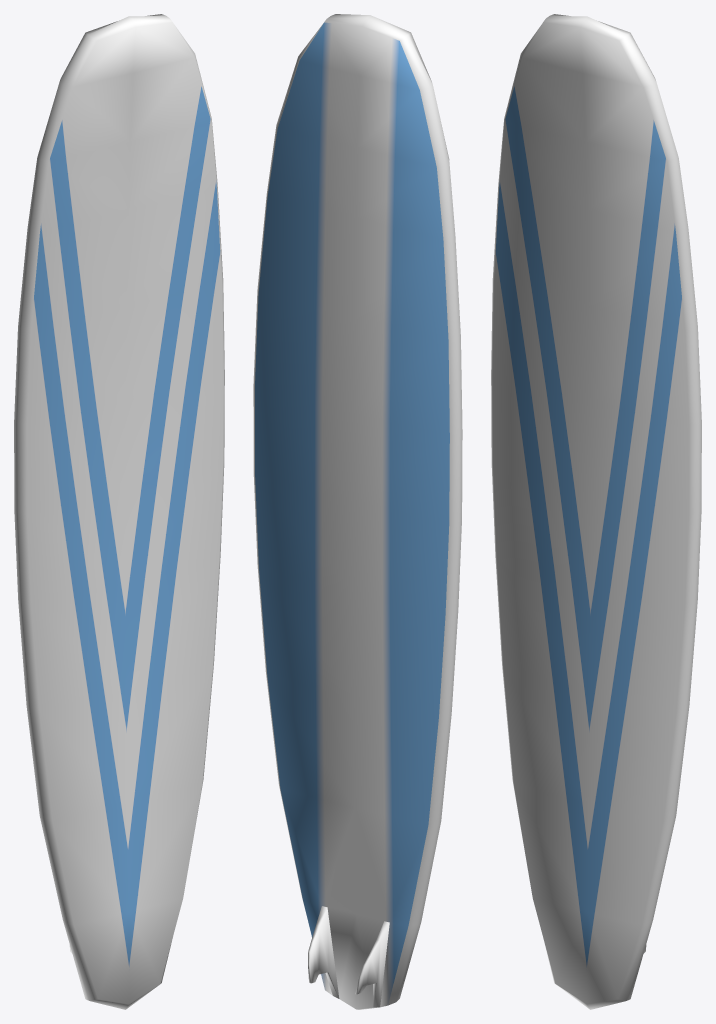
The model's file is Surfboard.fbx.
3 renders of one model, left to right at view 1: azimuth 30°, elevation 25°; view 2: azimuth 150°, elevation 25°; view 3: azimuth 330°, elevation 25°, orthographic.
Visible parts, largest first — view 1: Surfboard; view 2: Surfboard; view 3: Surfboard.
Part boxes in pixels (bbox=[...]): Surfboard: bbox=[14, 14, 224, 1009]; Surfboard: bbox=[253, 14, 462, 1009]; Surfboard: bbox=[491, 14, 701, 1009].
Size of the model in its own units: 0.6527 by 3 by 0.2242.
